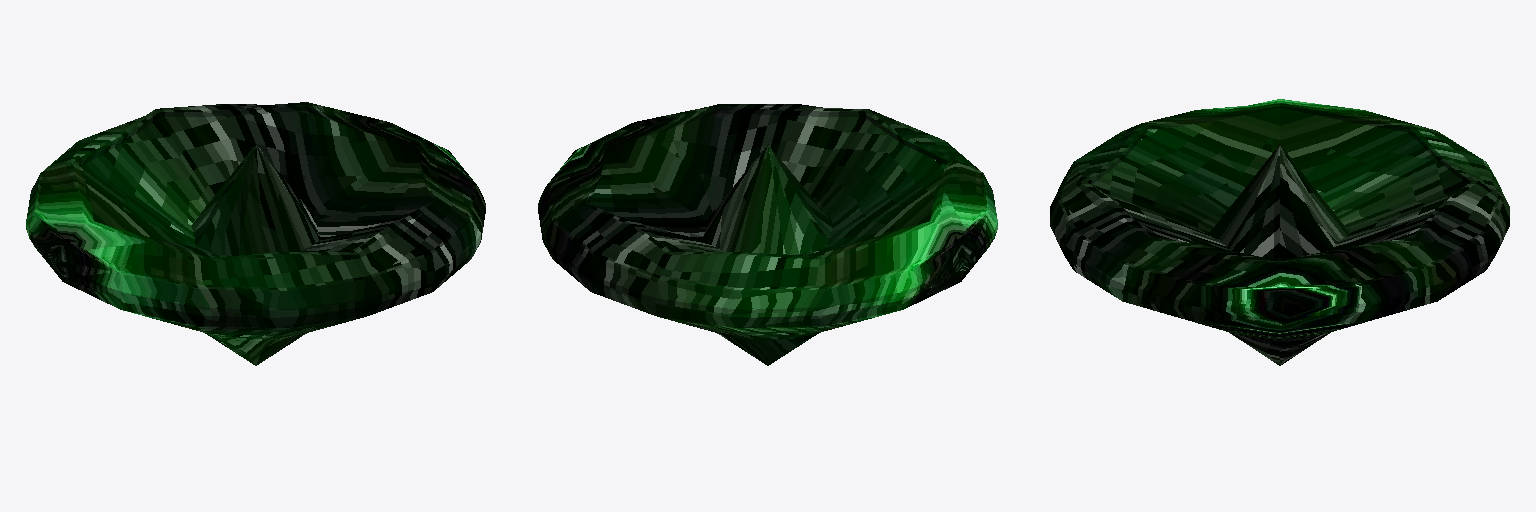
3 renders of one model, left to right at view 1: azimuth 30°, elevation 25°; view 2: azimuth 150°, elevation 25°; view 3: azimuth 270°, elevation 25°, orthographic.
Visible parts, largest first — view 1: Circle; view 2: Circle; view 3: Circle.
Part boxes in pixels (bbox=[...]): Circle: bbox=[26, 102, 485, 365]; Circle: bbox=[538, 104, 997, 365]; Circle: bbox=[1050, 99, 1509, 365].
Size of the model in its own units: 1.98 by 1.05 by 1.98.
Materials: 1 (1 with a texture image).